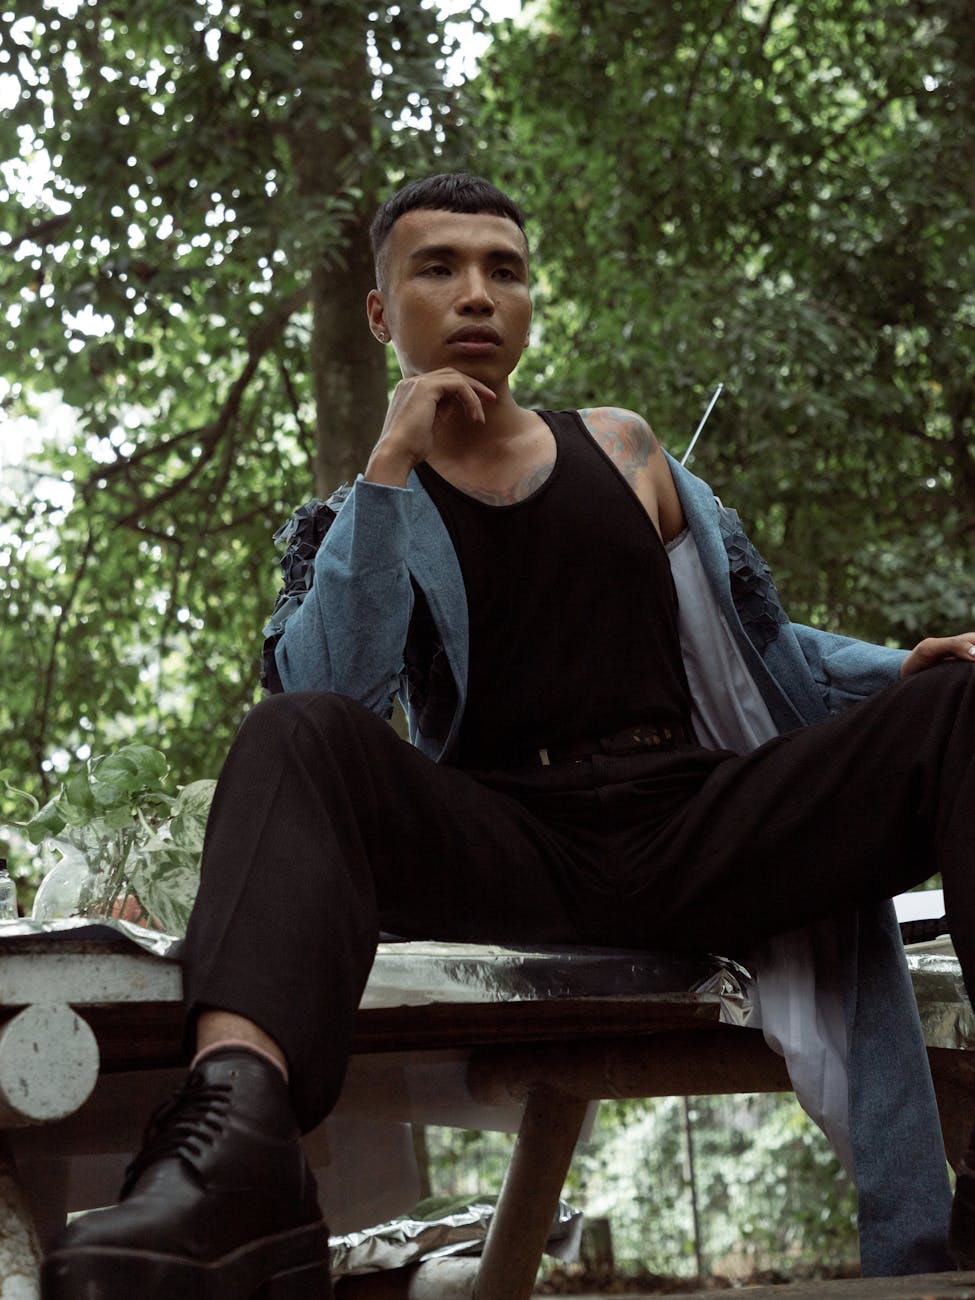sleeveless_top: (349, 378, 702, 747)
